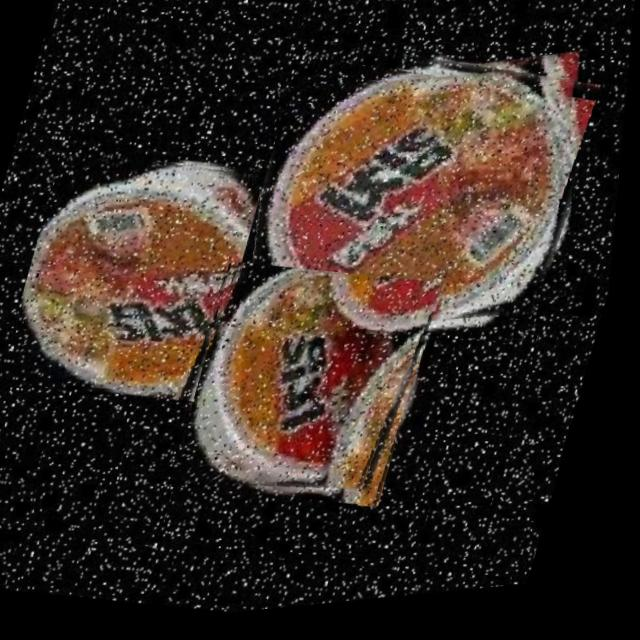Miscellaneous: (229, 21, 624, 383), (1, 132, 328, 434), (177, 250, 456, 532)
